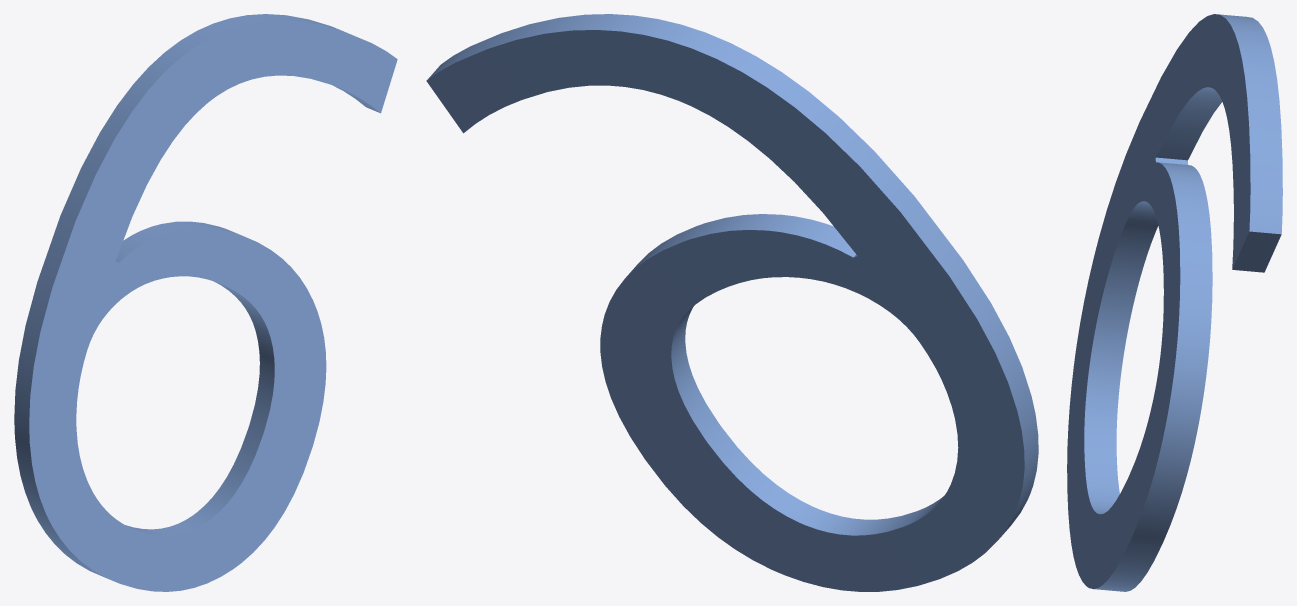
File: Sub_2_Cell_2_3_New_Number_9.gltf
The picture shows the model from 3 angles, left to right: view 1: azimuth 30°, elevation 25°; view 2: azimuth 150°, elevation 25°; view 3: azimuth 270°, elevation 25°; orthographic projection. The views are drawn at different scales.
Parts seen in each view (by area): view 1: Part 144; view 2: Part 144; view 3: Part 144.
Part boxes in pixels (box(x1,y1,x2,y2)): Part 144: box(14, 14, 397, 591); Part 144: box(426, 14, 1038, 591); Part 144: box(1067, 14, 1282, 591).
Bounding box in the file's own units: 0.00477 × 0.00514 × 0.00169.
